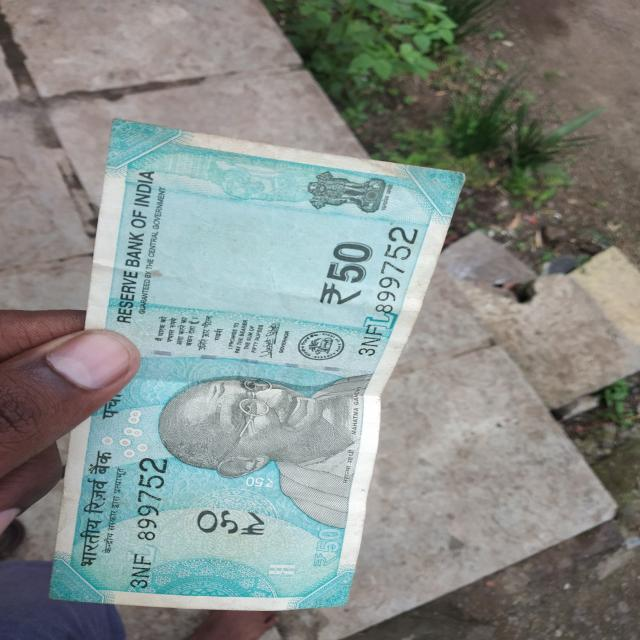50rs: (88, 122, 404, 618)
